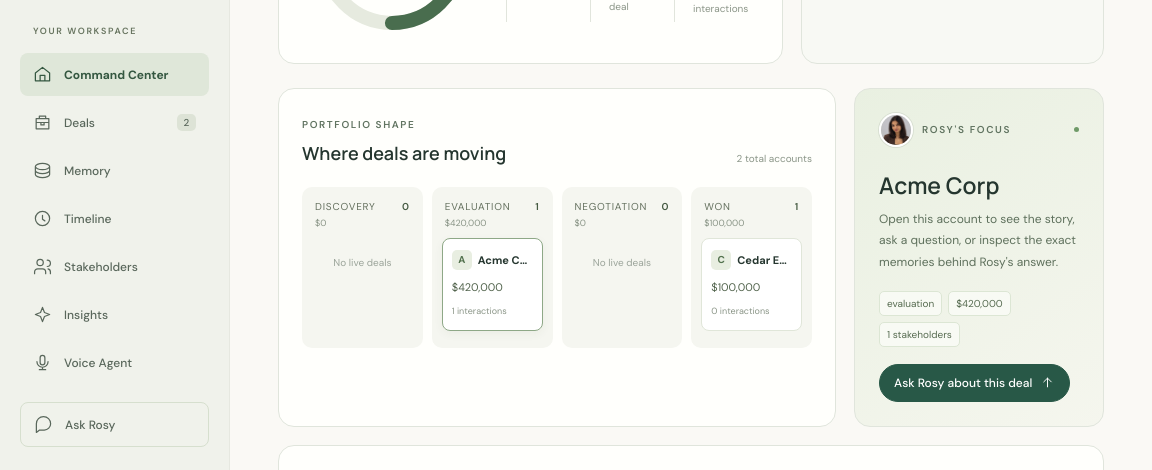
Test: DealMind workflows › shows actual deal context and sends the selected deal's question
(page scrolled)
Click the button "A Acme Corp $420,000 1 interactions" at (492, 284), box [442,238,543,331]
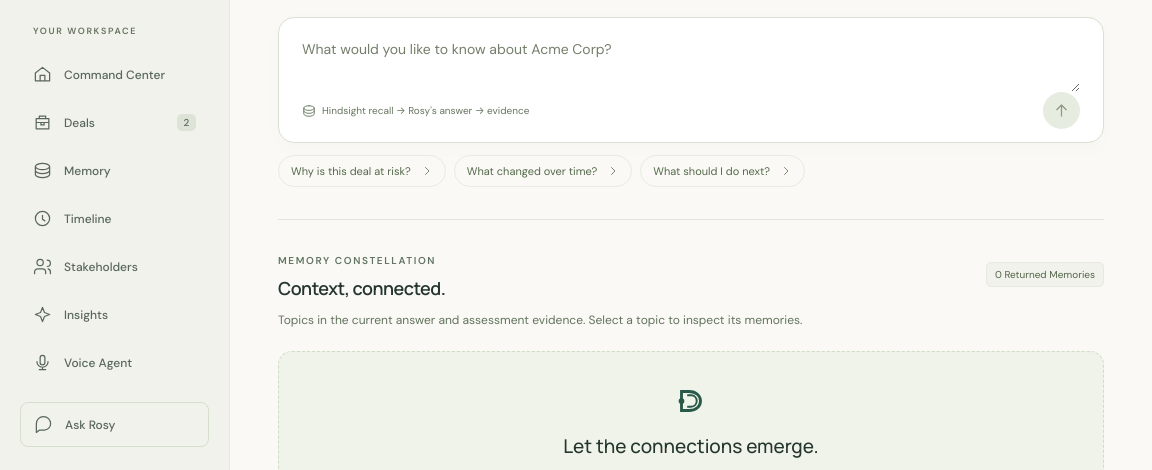
Type "What did Ravi care about?" into the text box named "Ask about this deal" at (691, 65), box [302,38,1080,92]
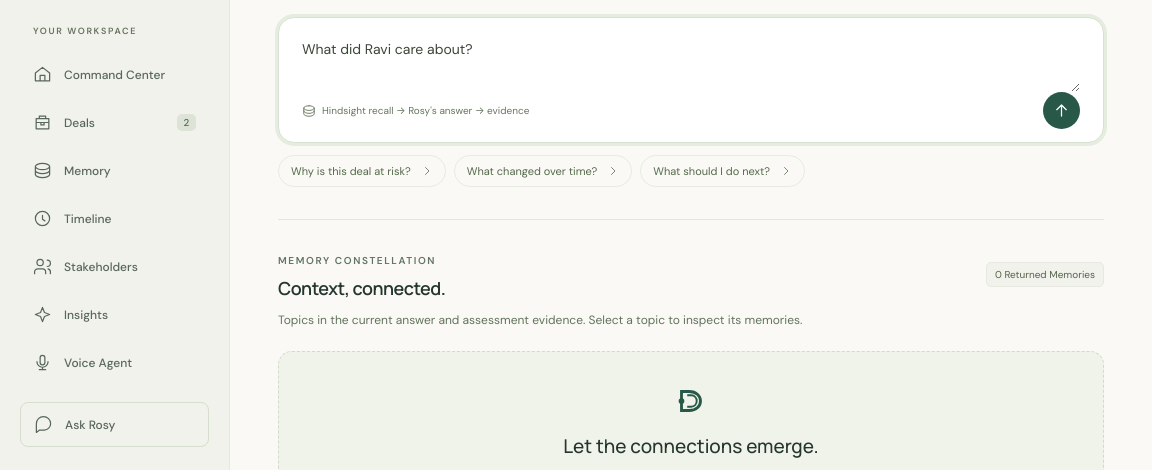
Click the button named "Send question" at (1062, 111), box [1043,92,1080,129]
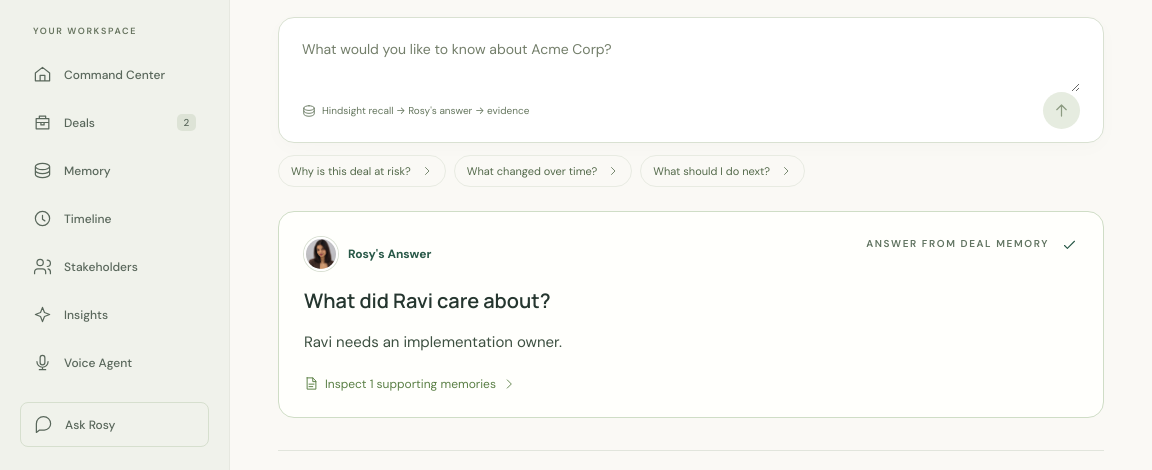
Check: the text "ANSWER FROM DEAL MEMORY" is shown, box [866,237,1049,250]
Click the button "Inspect 1 supporting memories" at (410, 384), box [304,376,516,392]
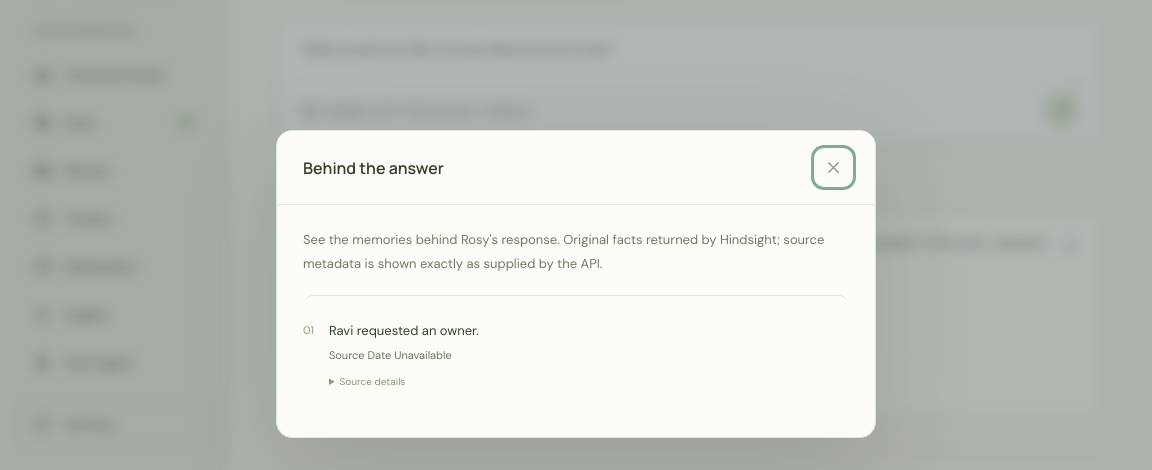
Check: the dialog "Behind the answer" is shown, box [276,130,876,438]
Check: the text "Ravi requested an owner." is shown, box [329,319,479,344]
